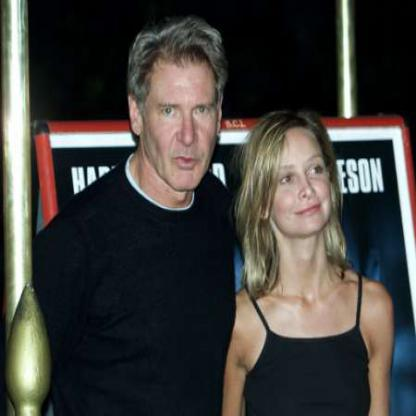face: (142, 31, 222, 193), (260, 116, 336, 243)
